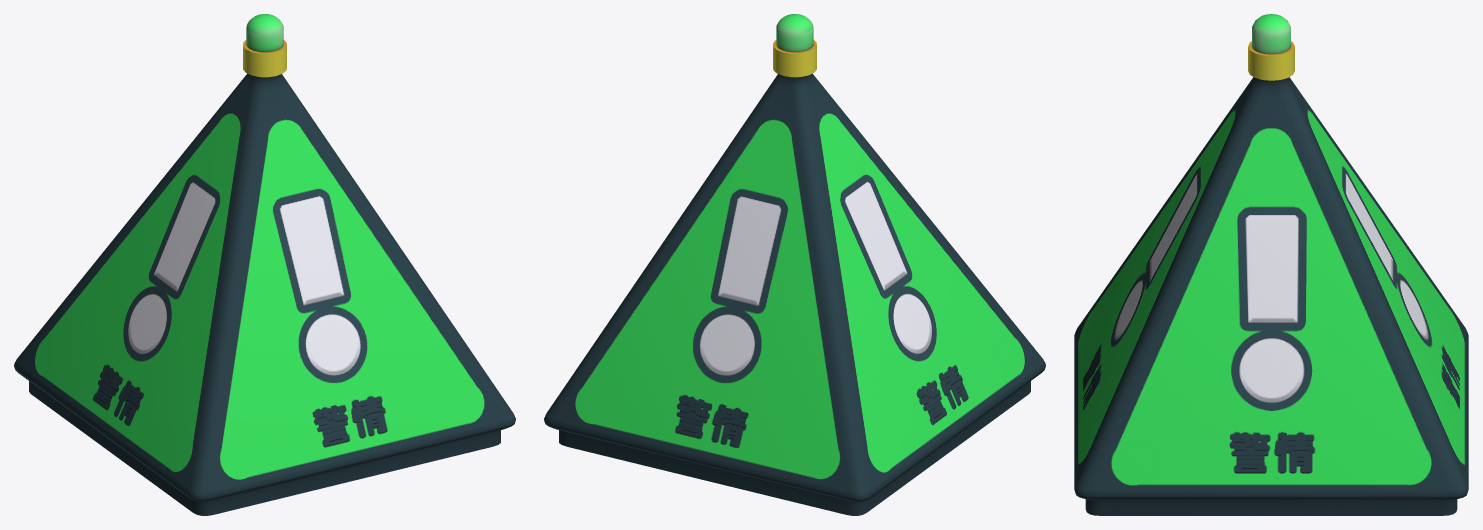
The model's file is JingQingYuanSu_lvse.dc9c454.glb.
3 views of the same model, side by side, from view 1: azimuth 30°, elevation 25°; view 2: azimuth 150°, elevation 25°; view 3: azimuth 270°, elevation 25° (orthographic). The views are drawn at different scales.
Visible parts, largest first — view 1: 警情元素; view 2: 警情元素; view 3: 警情元素.
Part boxes in pixels (x1=…): 警情元素: x1=14, y1=14, x2=515, y2=515; 警情元素: x1=544, y1=14, x2=1045, y2=515; 警情元素: x1=1074, y1=14, x2=1468, y2=515.
Size of the model in its own units: 0.9766 by 1.15 by 0.9766.
1 material, 1 textured.
